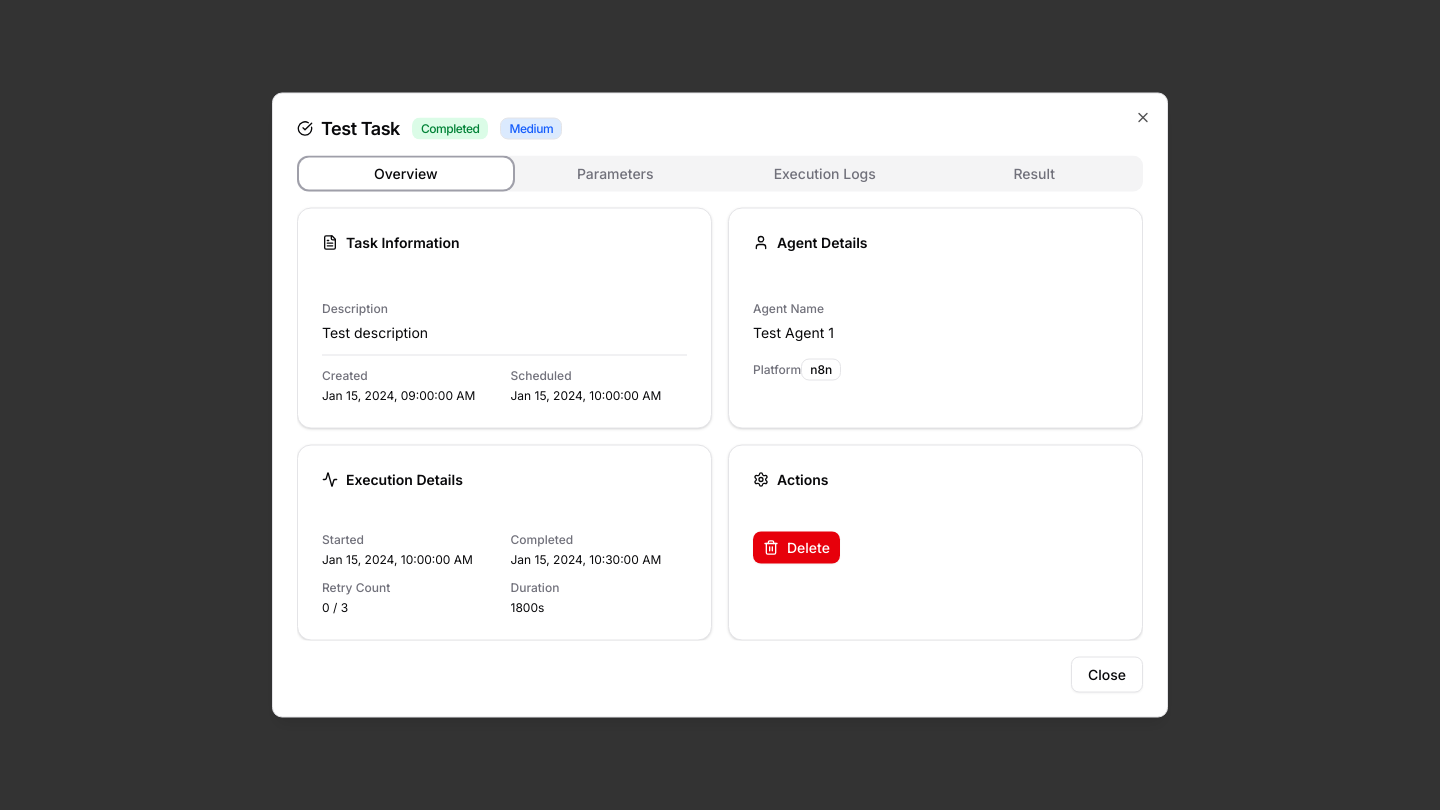
Test: TaskDetailModal › displays execution logs for completed task
Click the tab "Execution Logs" at (825, 174), box [720,160,930,188]
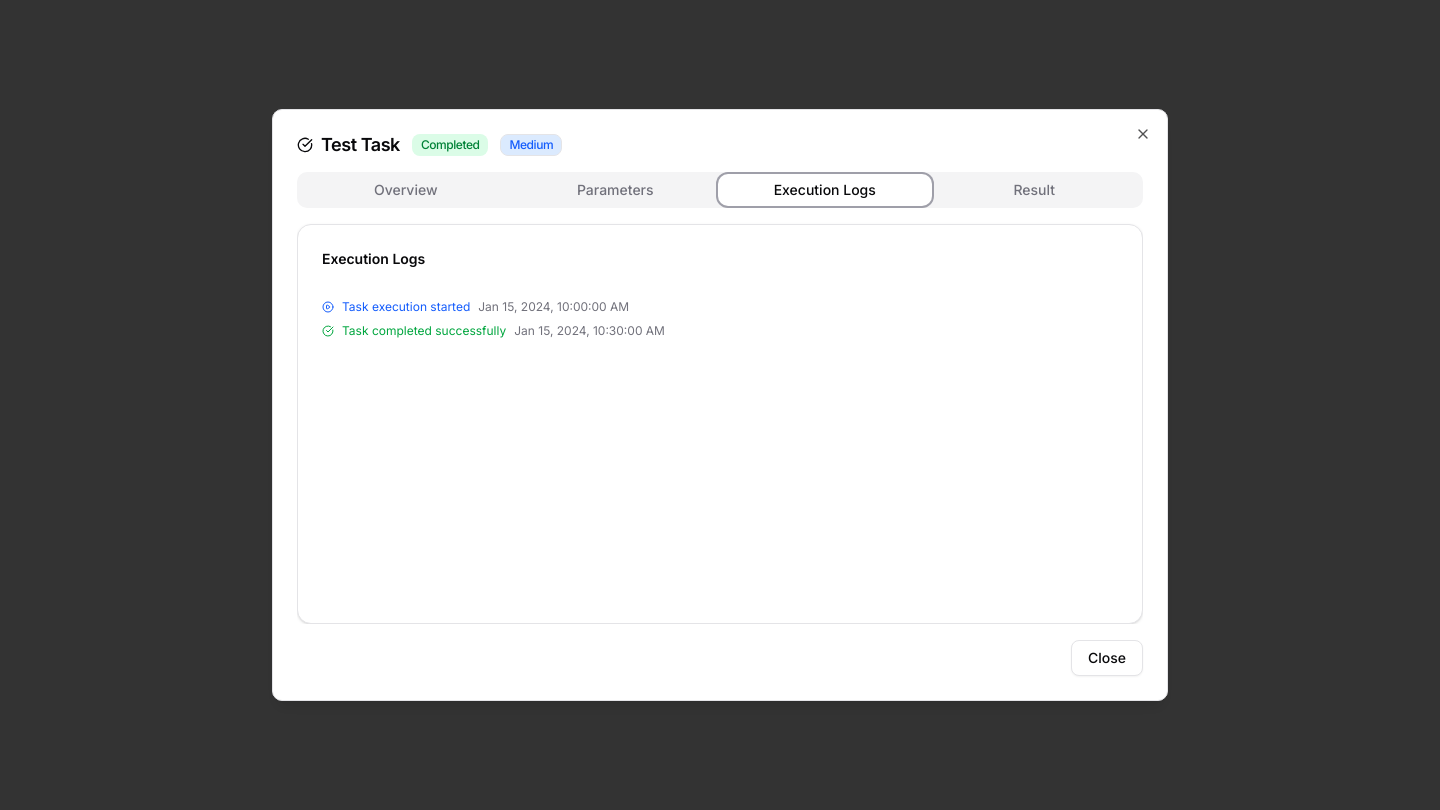
Now the text "Task execution started" is shown, box [342,299,470,315]
Now the text "Task completed successfully" is shown, box [342,323,506,339]
